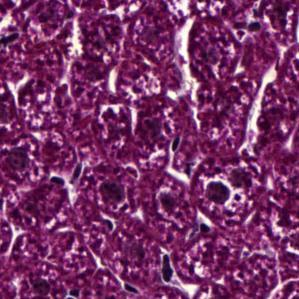inflammation: (200, 171, 239, 213), (153, 251, 184, 288), (97, 98, 122, 136)
